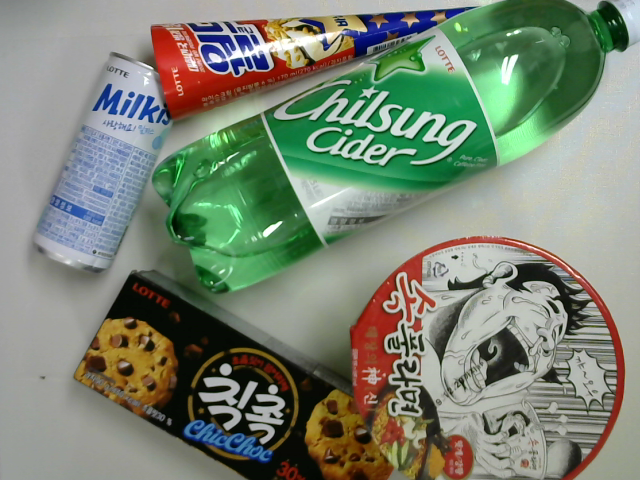Chicchok_Original_2400: (71, 270, 406, 480)
Chilseong_Cider_1.5L: (151, 1, 638, 301)
Hejangpul: (351, 224, 631, 480)
Milkies_250ml: (30, 46, 183, 287)
World_Cone_Banila: (149, 1, 517, 115)
